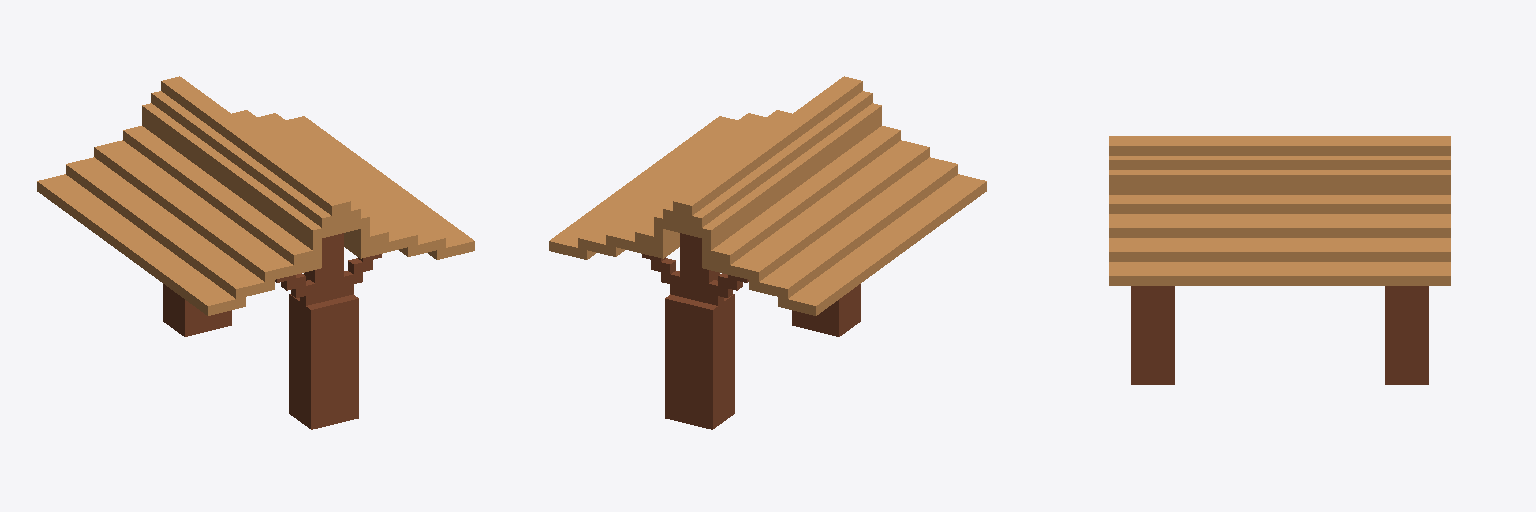
3 views of the same model, side by side, from view 1: azimuth 30°, elevation 25°; view 2: azimuth 150°, elevation 25°; view 3: azimuth 270°, elevation 25° (orthographic).
Parts seen in each view (by area): view 1: object 1; view 2: object 1; view 3: object 1.
Boxes of the visible parts, x1,y1,x2,y2 form: object 1: [37, 76, 474, 429]; object 1: [549, 76, 986, 429]; object 1: [1109, 136, 1450, 384].
Size of the model in its own units: 2.8 by 2.3 by 3.1.
Materials: 1 (1 with a texture image).